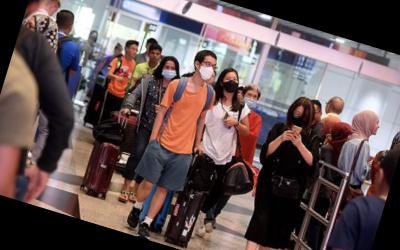with_mask: (195, 58, 219, 84), (220, 73, 240, 96), (289, 109, 310, 130), (160, 62, 180, 83), (241, 91, 260, 111), (88, 31, 98, 43)
without_mask: (147, 49, 163, 64), (371, 117, 383, 137), (126, 44, 139, 59), (205, 70, 216, 85), (235, 89, 246, 102)
